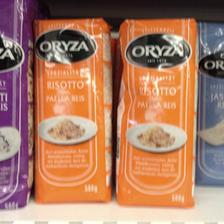Reis: (114, 17, 198, 207), (30, 14, 110, 202), (0, 0, 31, 208)
